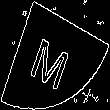M_NE: (31, 22, 79, 88)
